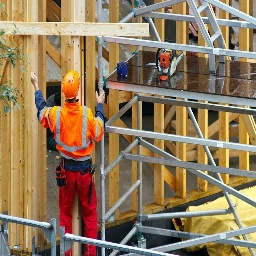helmet: (60, 70, 80, 98)
person: (31, 70, 106, 243)
vest: (42, 102, 104, 160)
